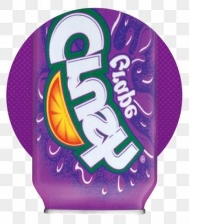can: (28, 6, 158, 215)
